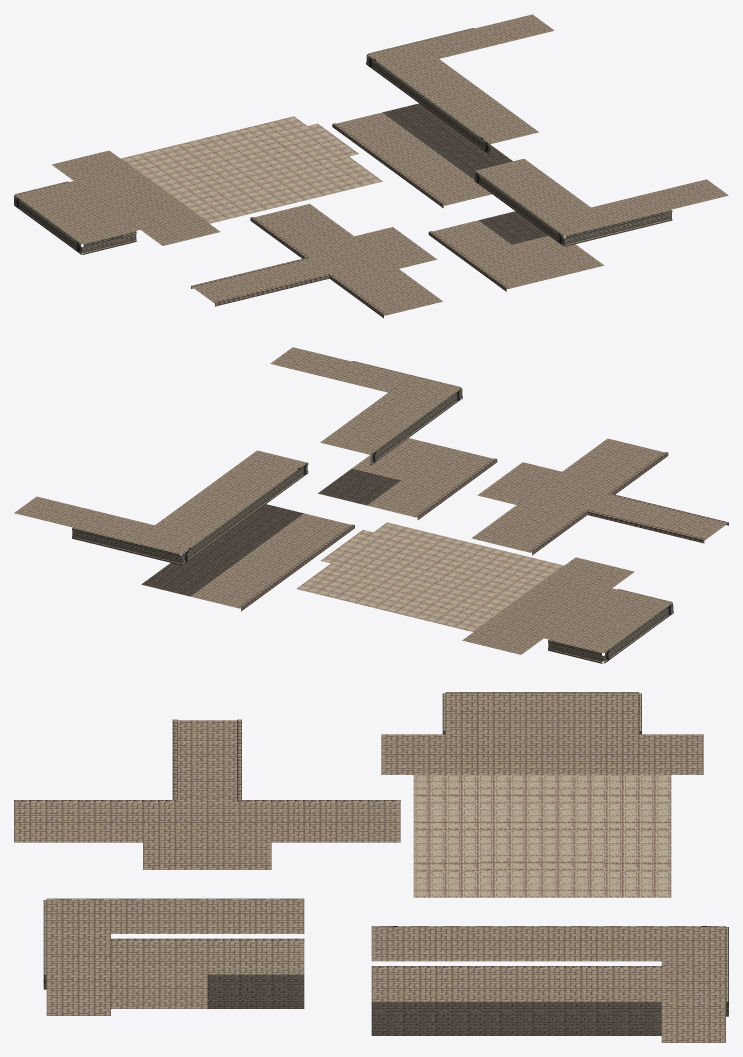
The model's file is ObjMD_Plain_Catsle_Floor_C_1F.FBX.
The picture shows the model from 3 angles, top to bottom: view 1: azimuth 30°, elevation 25°; view 2: azimuth 150°, elevation 25°; view 3: azimuth 270°, elevation 25°; orthographic projection. The views are drawn at different scales.
Visible parts, largest first — view 1: ObjMD_Plain_Catsle_Floor_C_2F, ObjMD_Plain_Catsle_Floor_R, ObjMD_Plain_Catsle_Floor_L, ObjMD_Plain_Catsle_Floor_C_1F; view 2: ObjMD_Plain_Catsle_Floor_C_2F, ObjMD_Plain_Catsle_Floor_R, ObjMD_Plain_Catsle_Floor_L, ObjMD_Plain_Catsle_Floor_C_1F; view 3: ObjMD_Plain_Catsle_Floor_C_2F, ObjMD_Plain_Catsle_Floor_R, ObjMD_Plain_Catsle_Floor_L, ObjMD_Plain_Catsle_Floor_C_1F.
Part boxes in pixels (bbox=[...]): ObjMD_Plain_Catsle_Floor_C_2F: bbox=[14, 116, 382, 254]; ObjMD_Plain_Catsle_Floor_R: bbox=[332, 14, 554, 207]; ObjMD_Plain_Catsle_Floor_L: bbox=[428, 159, 728, 291]; ObjMD_Plain_Catsle_Floor_C_1F: bbox=[191, 203, 442, 317]; ObjMD_Plain_Catsle_Floor_C_2F: bbox=[296, 522, 673, 663]; ObjMD_Plain_Catsle_Floor_R: bbox=[14, 450, 354, 611]; ObjMD_Plain_Catsle_Floor_L: bbox=[270, 347, 497, 519]; ObjMD_Plain_Catsle_Floor_C_1F: bbox=[471, 438, 728, 555]; ObjMD_Plain_Catsle_Floor_C_2F: bbox=[381, 692, 703, 897]; ObjMD_Plain_Catsle_Floor_R: bbox=[371, 926, 728, 1042]; ObjMD_Plain_Catsle_Floor_L: bbox=[43, 898, 304, 1015]; ObjMD_Plain_Catsle_Floor_C_1F: bbox=[14, 719, 400, 869].
Size of the model in its own units: 5688 by 525 by 4438.
